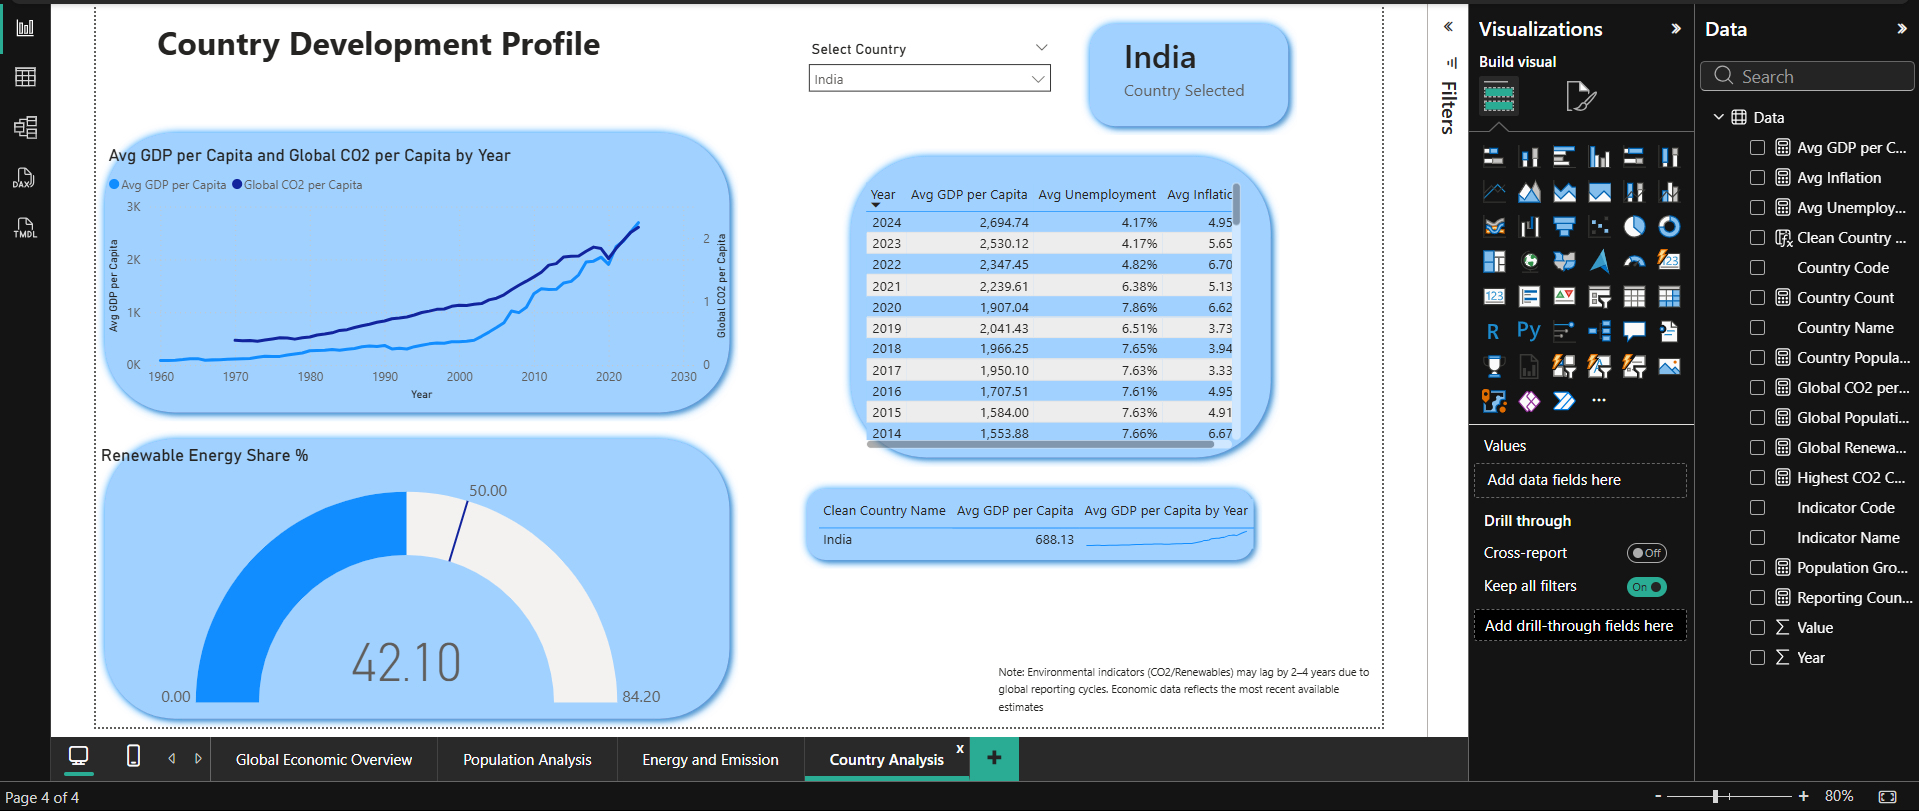

The dashboard page shown, as its layout file describes it:
{"tool":"powerbi","page":{"name":"Country Analysis","canvas":[1280,720],"ordinal":3},"visuals":[{"type":"group","id":"g1","title":"Group 1","box":[0,11.2,1195.4,709.1],"z":0},{"type":"shape","box":[0,119.4,639.4,296.1],"z":0,"group":"g1"},{"type":"slicer","fields":{"Values":["Data.Clean Country Name"]},"box":[699.1,31.1,261.2,80.9],"z":1000},{"type":"shape","box":[0,424.2,639.4,296.1],"z":1000,"group":"g1"},{"type":"lineChart","fields":{"Category":["Data.Year"],"Y":["Data.Avg GDP per Capita"],"Y2":["Data.Global CO2 per Capita"]},"box":[7.5,140.6,627,258.7],"z":2000},{"type":"shape","box":[742.6,143.1,435.4,317.2],"z":2000,"group":"g1"},{"type":"cardVisual","fields":{"Data":["Min(Data.Clean Country Name)"]},"box":[993.9,11.2,286.1,102],"z":3000},{"type":"shape","box":[699.1,474,461.5,88.3],"z":3000,"group":"g1"},{"type":"shape","box":[980.2,11.2,215.2,119.4],"z":4000,"group":"g1"},{"type":"gauge","title":"Renewable Energy Share %","fields":{"Y":["Data.Global Renewable Energy %"]},"box":[0,439.1,627,266.2],"z":4000},{"type":"tableEx","fields":{"Values":["Data.Year","Data.Avg GDP per Capita","Data.Avg Unemployment","Data.Avg Inflation"]},"box":[760.1,172.9,384.4,274.9],"z":5000},{"type":"tableEx","fields":{"Values":["Data.Clean Country Name","Data.Avg GDP per Capita","SparklineData(Data.Avg GDP per Capita_[Data.Year])"]},"box":[712.8,487.6,447.8,84.6],"z":6000},{"type":"textbox","box":[893.2,649.3,386.9,70.9],"z":7000},{"type":"textbox","box":[56,11.2,462.8,92.1],"z":8000}]}

Visuals, with their boxes on the page's 1280x720 design canvas (x1, y1, x2, y2). These are canvas units, not pixel positions in the 1919x811 screenshot, which may show the page scaled, cropped or inside an application window:
"Group 1" group: {"x1": 0, "y1": 11, "x2": 1195, "y2": 720}
shape: {"x1": 0, "y1": 119, "x2": 639, "y2": 416}
slicer - Data.Clean Country Name: {"x1": 699, "y1": 31, "x2": 960, "y2": 112}
shape: {"x1": 0, "y1": 424, "x2": 639, "y2": 720}
lineChart - Data.Year x Data.Avg GDP per Capita: {"x1": 8, "y1": 141, "x2": 634, "y2": 399}
shape: {"x1": 743, "y1": 143, "x2": 1178, "y2": 460}
cardVisual - Min(Data.Clean Country Name): {"x1": 994, "y1": 11, "x2": 1280, "y2": 113}
shape: {"x1": 699, "y1": 474, "x2": 1161, "y2": 562}
shape: {"x1": 980, "y1": 11, "x2": 1195, "y2": 131}
"Renewable Energy Share %" gauge: {"x1": 0, "y1": 439, "x2": 627, "y2": 705}
tableEx - Data.Year x Data.Avg GDP per Capita: {"x1": 760, "y1": 173, "x2": 1144, "y2": 448}
tableEx - Data.Clean Country Name x Data.Avg GDP per Capita: {"x1": 713, "y1": 488, "x2": 1161, "y2": 572}
textbox: {"x1": 893, "y1": 649, "x2": 1280, "y2": 720}
textbox: {"x1": 56, "y1": 11, "x2": 519, "y2": 103}
